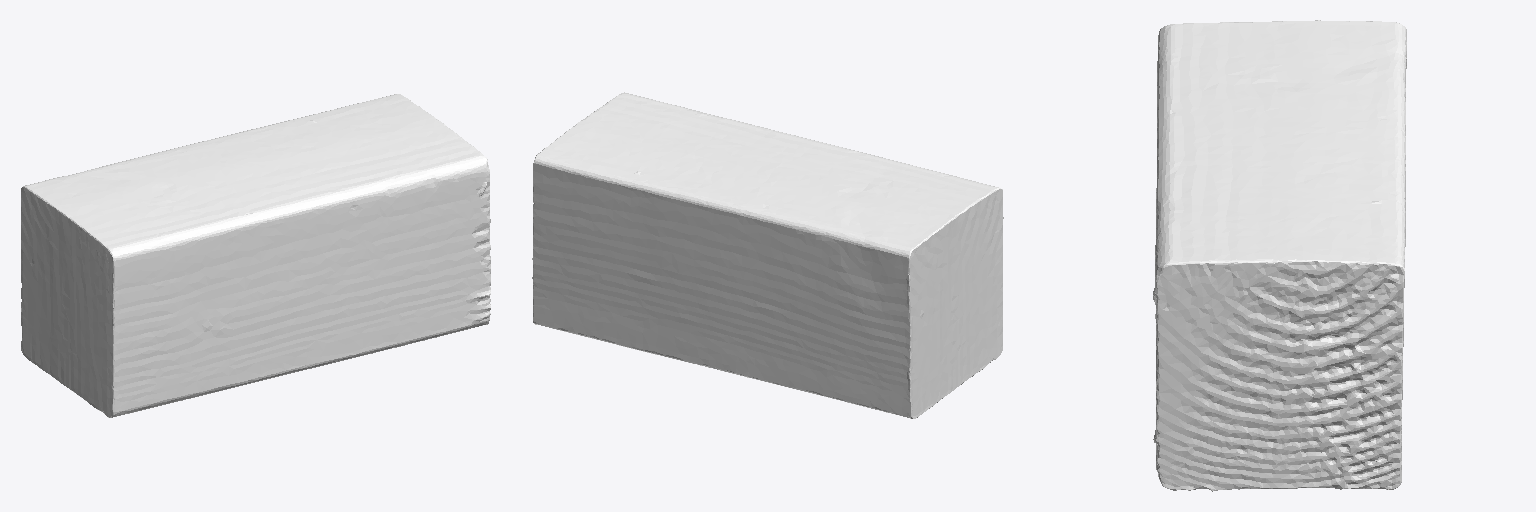
The robot description file, URDF, robot "wood_block":
<robot name="wood_block">
	<link name="base_link">
		<visual>
			<origin xyz="-0.10276919233489218 0.010273626224740963 0.0233730518561954" rpy="0 1.5707963267948966 0.0" />
			<geometry>
				<mesh filename="wood_block/textured.obj" scale="1 1 1" />
			</geometry>
			<material name="texture">
				<color rgba="1.0 1.0 1.0 1.0" />
			</material>
		</visual>
		<collision>
			<origin xyz="-0.10276919233489218 0.010273626224740963 0.0233730518561954" rpy="0 1.5707963267948966 0.0" />
			<geometry>
				<mesh filename="wood_block/textured_vhacd.obj" scale="1 1 1" />
			</geometry>
		</collision>
		<inertial>
			<mass value="0.729" />
			<inertia ixx="1e-2" ixy="0.0" ixz="0.0" iyy="1e-2" iyz="0.0" izz="1e-2" />
		</inertial>
	</link>
</robot>

--- What the picture shows (computed from the rendered views, not written in the file) ---
The picture shows the robot from 3 angles, left to right: view 1: azimuth 30°, elevation 25°; view 2: azimuth 150°, elevation 25°; view 3: azimuth 270°, elevation 25°; orthographic projection.
Robot: wood_block — 1 links, 0 joints (none); root link base_link; default pose: every joint at zero.
Visible links, largest first — view 1: base_link; view 2: base_link; view 3: base_link.
Boxes of the visible links, x1=… form: base_link: x1=21, y1=94, x2=490, y2=417; base_link: x1=532, y1=92, x2=1003, y2=418; base_link: x1=1153, y1=20, x2=1406, y2=491.
Bounding box of the posed robot: 0.206 × 0.0899 × 0.0906 m (x, y, z).
1 mesh visuals loaded from 1 distinct referenced files (1 OBJ).
